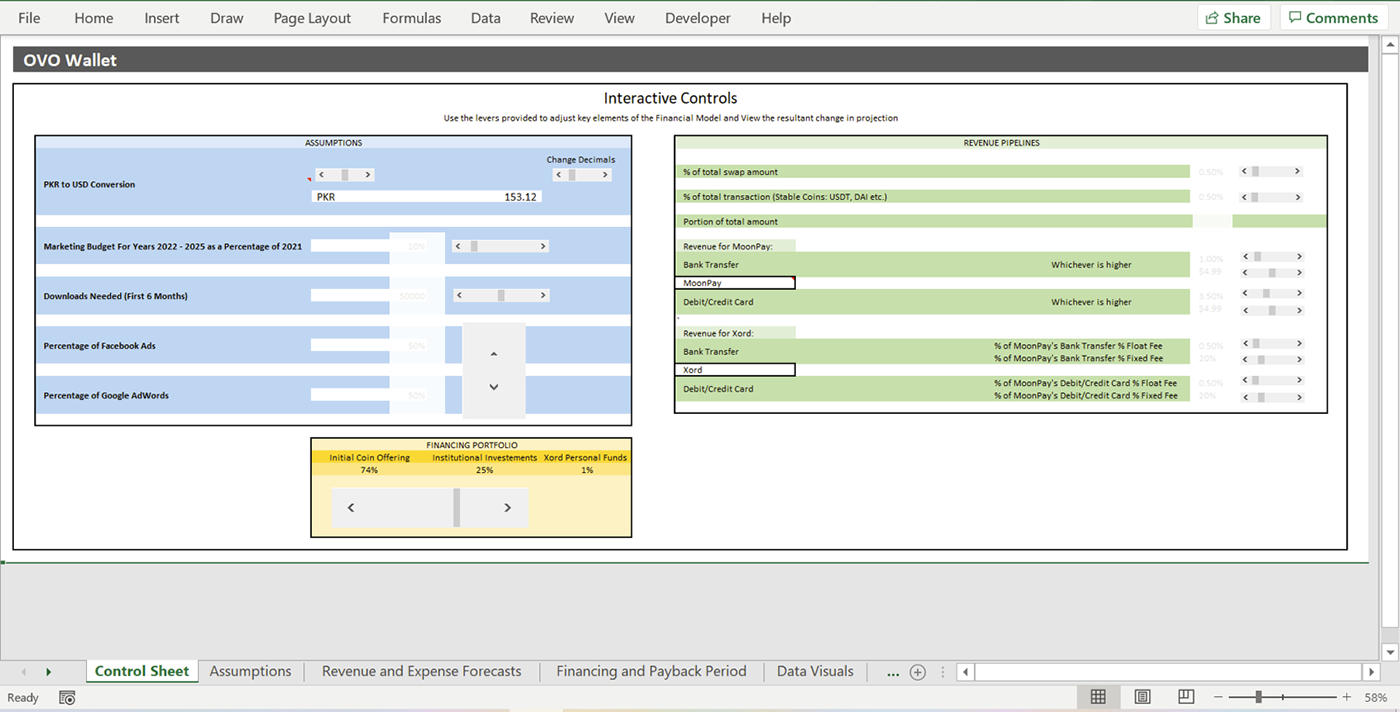block: (14, 83, 1349, 549), (1, 658, 1398, 712), (1, 1, 1399, 31), (13, 44, 1369, 71), (310, 437, 632, 537)
button: (1199, 7, 1272, 29)
form: (1280, 4, 1389, 29)
icon: (1171, 686, 1204, 712), (1126, 685, 1157, 711), (1085, 686, 1114, 710), (877, 661, 906, 684), (907, 661, 931, 685), (1285, 4, 1308, 29), (495, 498, 522, 518), (932, 661, 954, 685), (956, 662, 977, 685), (1202, 9, 1223, 28), (39, 663, 60, 682), (339, 499, 362, 516), (57, 688, 77, 707), (1380, 34, 1397, 56), (1363, 664, 1381, 683), (1380, 644, 1398, 662)
table: (675, 135, 1326, 415), (35, 136, 631, 426)
